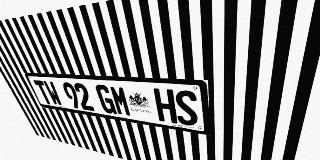2: (72, 83, 95, 111)
9: (61, 82, 83, 109)
G: (94, 84, 117, 115)
H: (153, 88, 177, 124)
M: (109, 85, 132, 117)
S: (174, 90, 198, 127)
T: (33, 80, 54, 105)
W: (42, 81, 64, 106)
